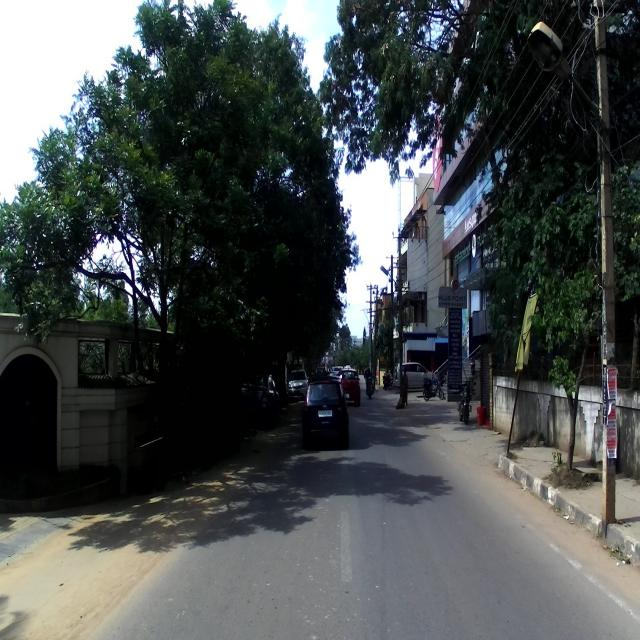Car_Ford: (301, 372, 349, 452)
